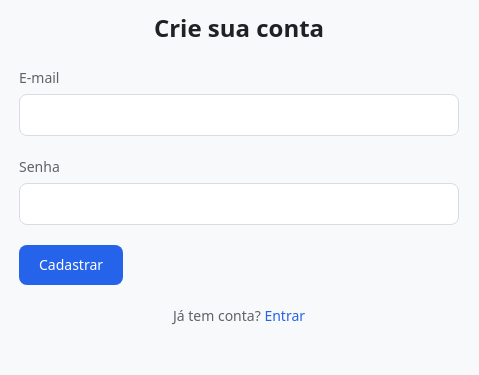
Scenario: RegisterForm › shows error on duplicate email
In the field labelled "E-mail": (239, 115) [19, 94, 459, 136], type "john@test.com"
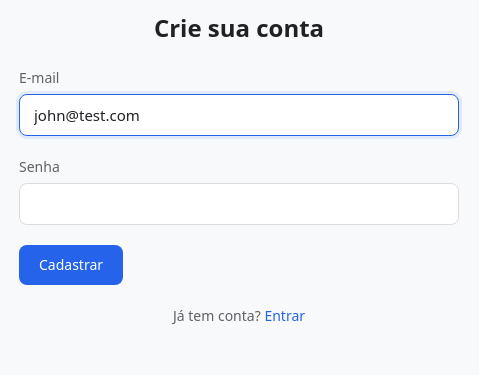
In the password field labelled "Senha": (239, 204) [19, 183, 459, 225], type "password123"
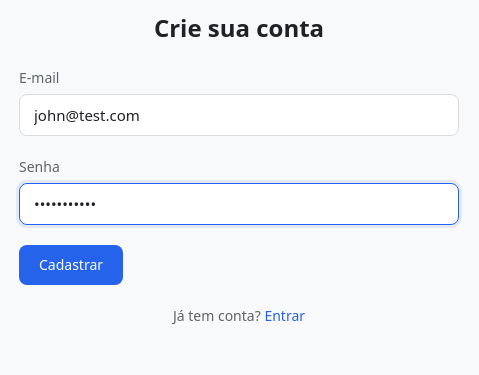
Click the button "Cadastrar": (71, 265) [19, 245, 123, 285]
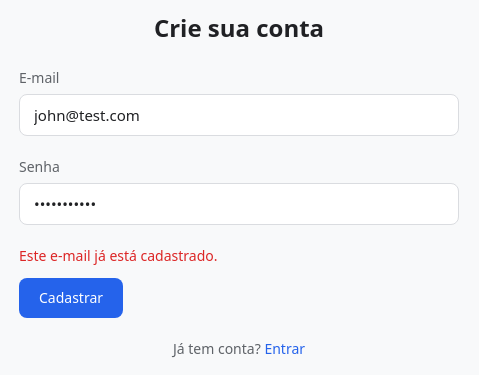
Now the text "Este e-mail já está cadastrado." is shown, box [19, 246, 218, 265]
